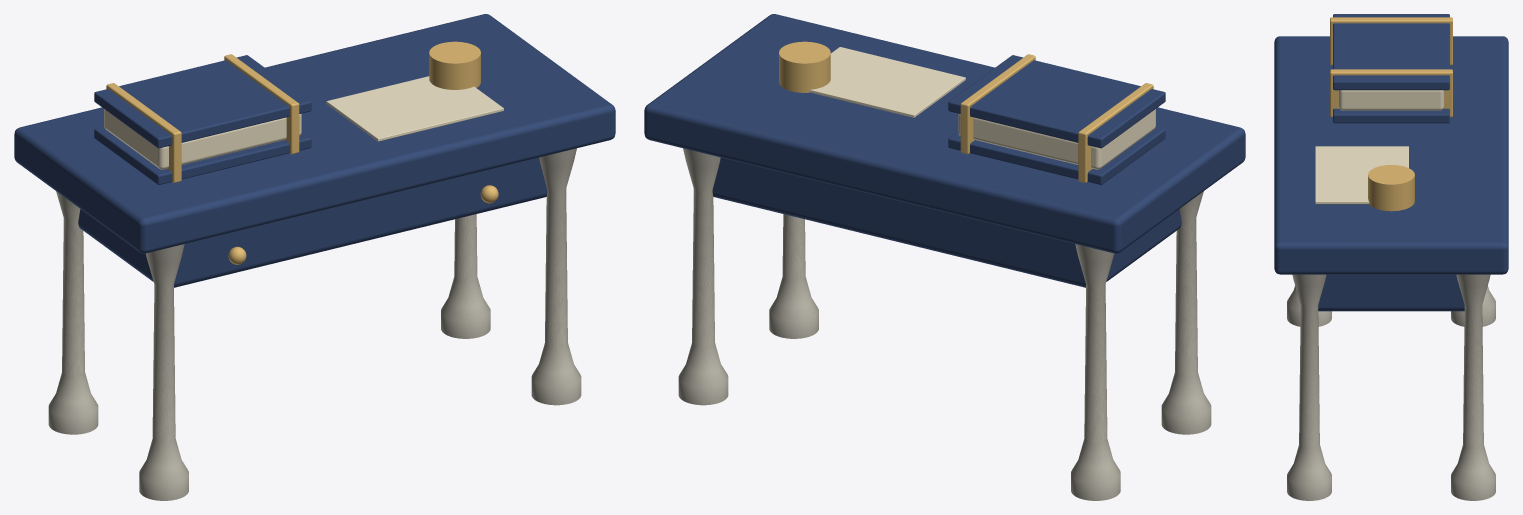
File: arcane-academy-and-spell-trials-scribing-desk-a7fd8367__28296.glb
The picture shows the model from 3 angles, left to right: view 1: azimuth 30°, elevation 25°; view 2: azimuth 150°, elevation 25°; view 3: azimuth 270°, elevation 25°; orthographic projection. The views are drawn at different scales.
Parts seen in each view (by area): view 1: scribing-desk; view 2: scribing-desk; view 3: scribing-desk.
Part boxes in pixels (x1,y1,x2,y2): scribing-desk: [14, 14, 615, 500]; scribing-desk: [644, 14, 1245, 500]; scribing-desk: [1274, 14, 1508, 500].
Bounding box in the file's own units: 1.7 × 1.17 × 0.8001.
Materials: 4 (1 with a texture image).
